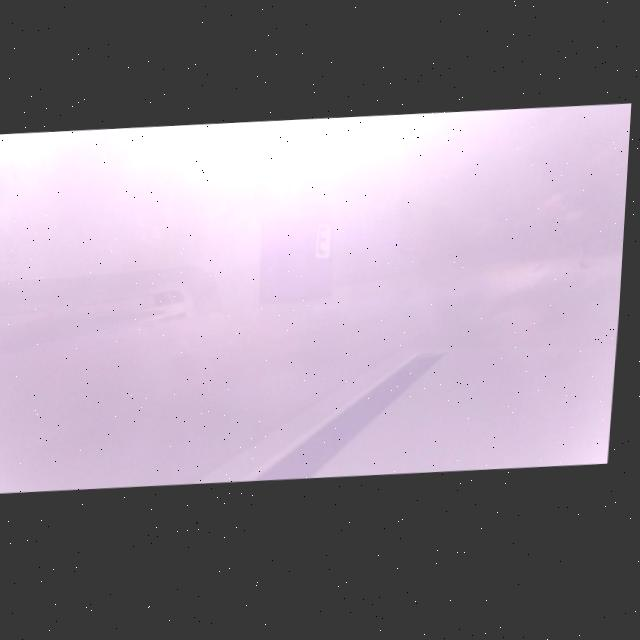E: (323, 231, 330, 259)
